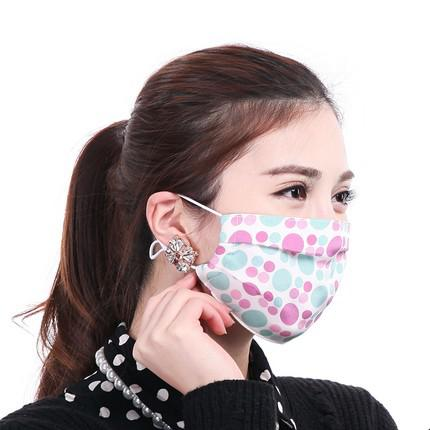OK: (166, 145, 355, 344)
